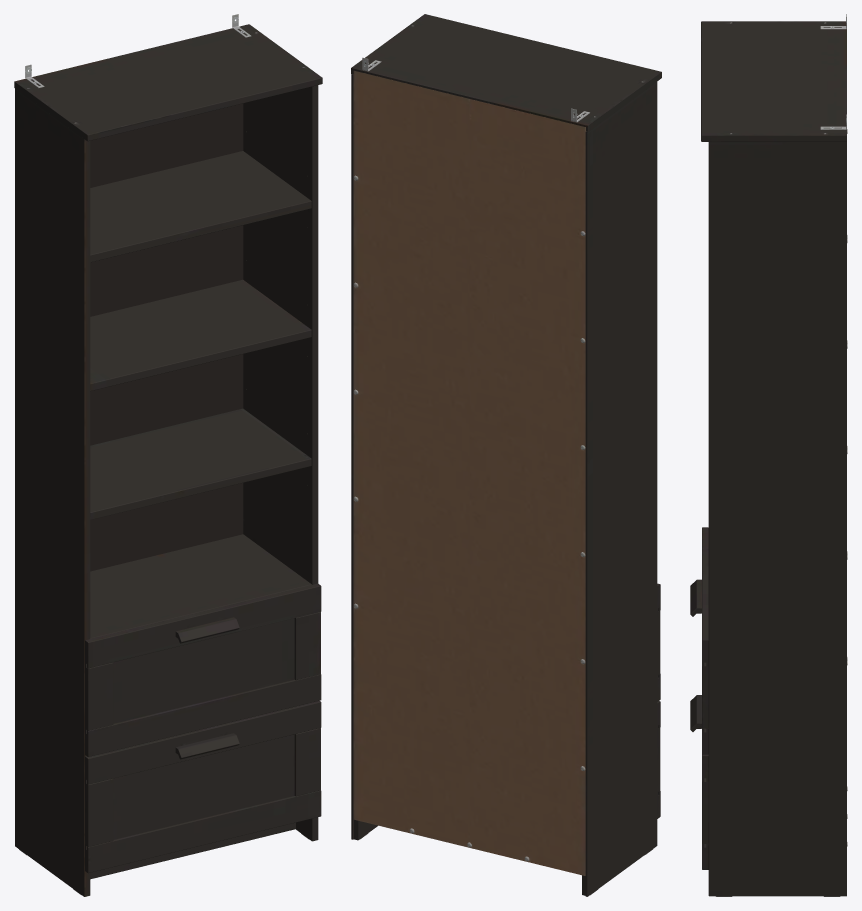
3 renders of one model, left to right at view 1: azimuth 30°, elevation 25°; view 2: azimuth 150°, elevation 25°; view 3: azimuth 270°, elevation 25°, orthographic.
Parts seen in each view (by area): view 1: GLTF; view 2: GLTF; view 3: GLTF.
Part boxes in pixels (x1=…): GLTF: x1=14, y1=14, x2=322, y2=896; GLTF: x1=351, y1=14, x2=661, y2=896; GLTF: x1=690, y1=14, x2=847, y2=896.
Size of the model in its own units: 0.6001 by 1.9 by 0.35.
Materials: 1 (1 with a texture image).
